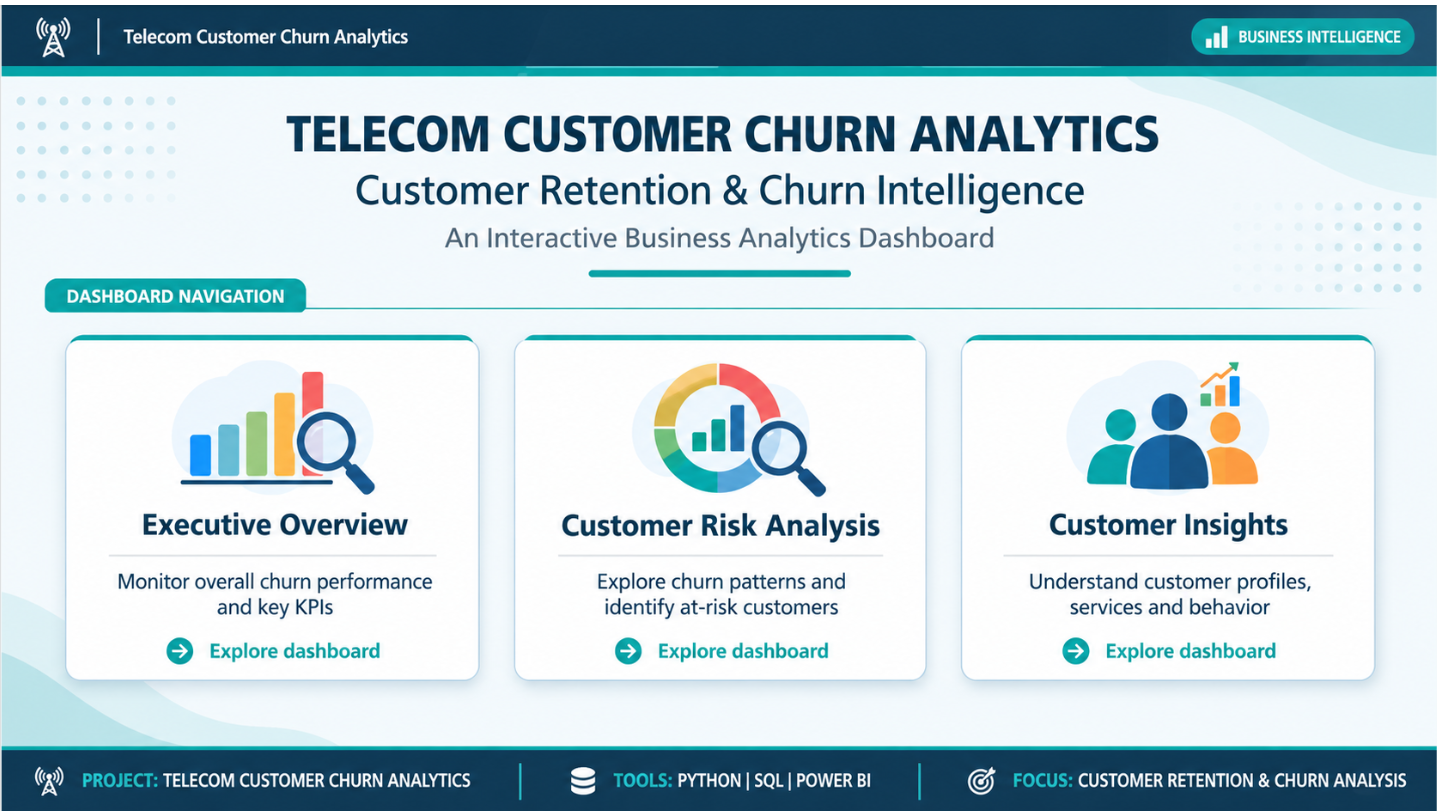

What the dashboard file says about the page in this screenshot:
{"tool":"powerbi","page":{"name":"Home","canvas":[1920,1080],"ordinal":0},"visuals":[{"type":"actionButton","box":[244,314,372,140],"z":0},{"type":"actionButton","box":[244,314,372,140],"z":1000},{"type":"image","box":[0,0,1920,1080],"z":2000},{"type":"actionButton","box":[194,836,346,56],"z":3000},{"type":"actionButton","box":[806,836,346,56],"z":4000},{"type":"actionButton","box":[1388,836,346,56],"z":5000}]}

Visuals, with their boxes in screenshot pixels (x1, y1, x2, y2), scaled from the page's 1920x1080 canvas onto the 1437x811 screenshot:
actionButton: 183, 236, 461, 341
actionButton: 183, 236, 461, 341
image: 0, 0, 1436, 810
actionButton: 145, 628, 404, 670
actionButton: 603, 628, 862, 670
actionButton: 1039, 628, 1298, 670
